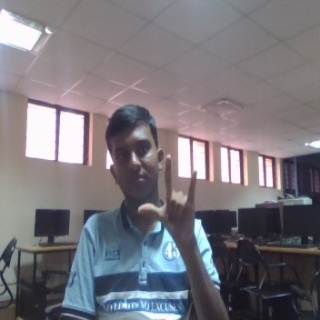Face: (103, 104, 162, 203)
I Love You: (135, 152, 201, 247)
